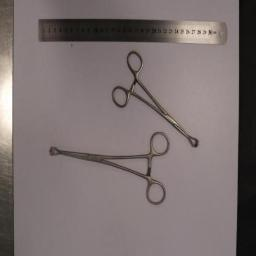Babcock Tissue Forceps: (112, 53, 198, 147)
